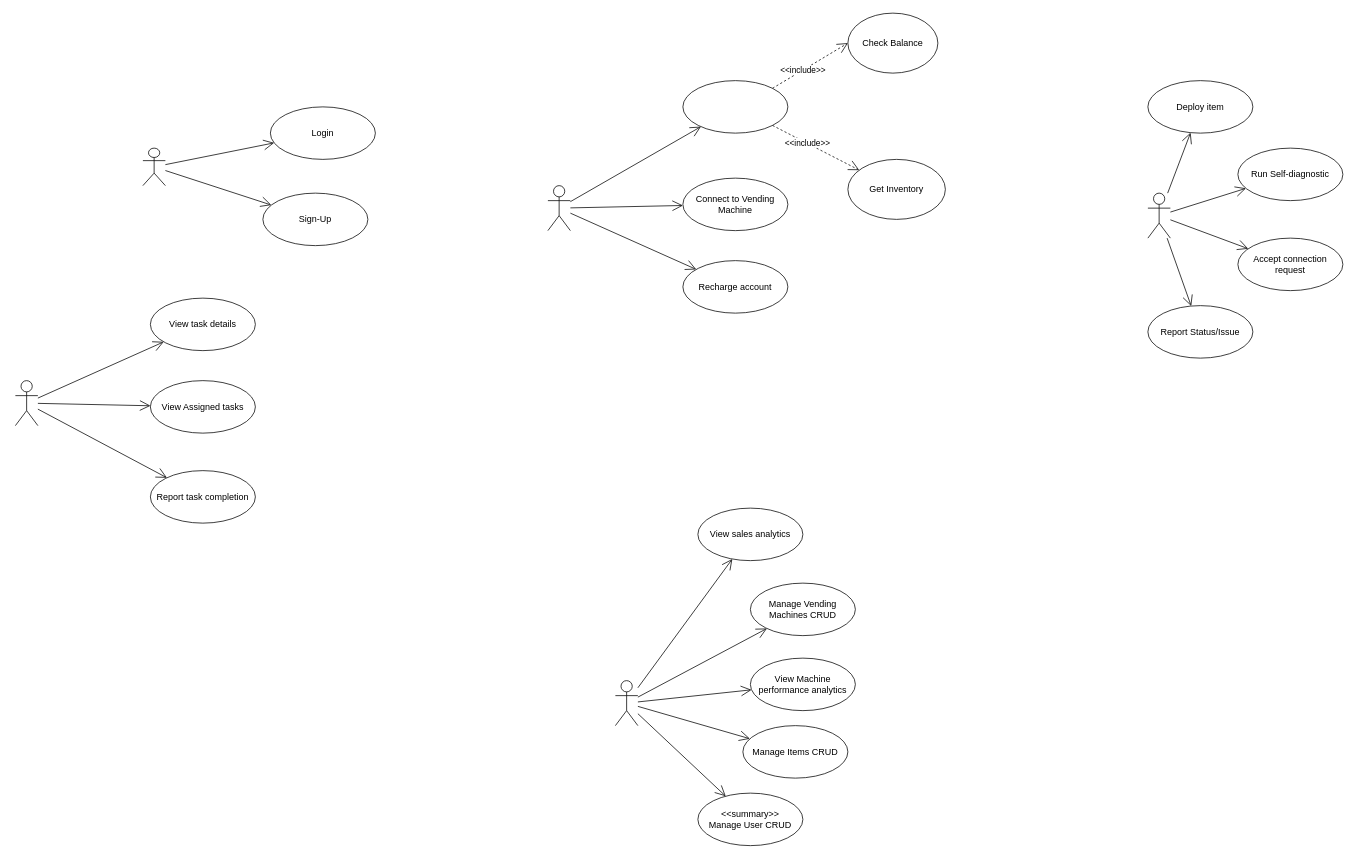
This 1356x859 diagram has some shape labels left out. Each missing label, with the centre of its shape:
Admin: (x=626, y=703)
Buy item: (x=735, y=106)
Customer: (x=558, y=208)
User: (x=153, y=166)
Vending Machine: (x=1158, y=215)
worker: (x=26, y=403)
